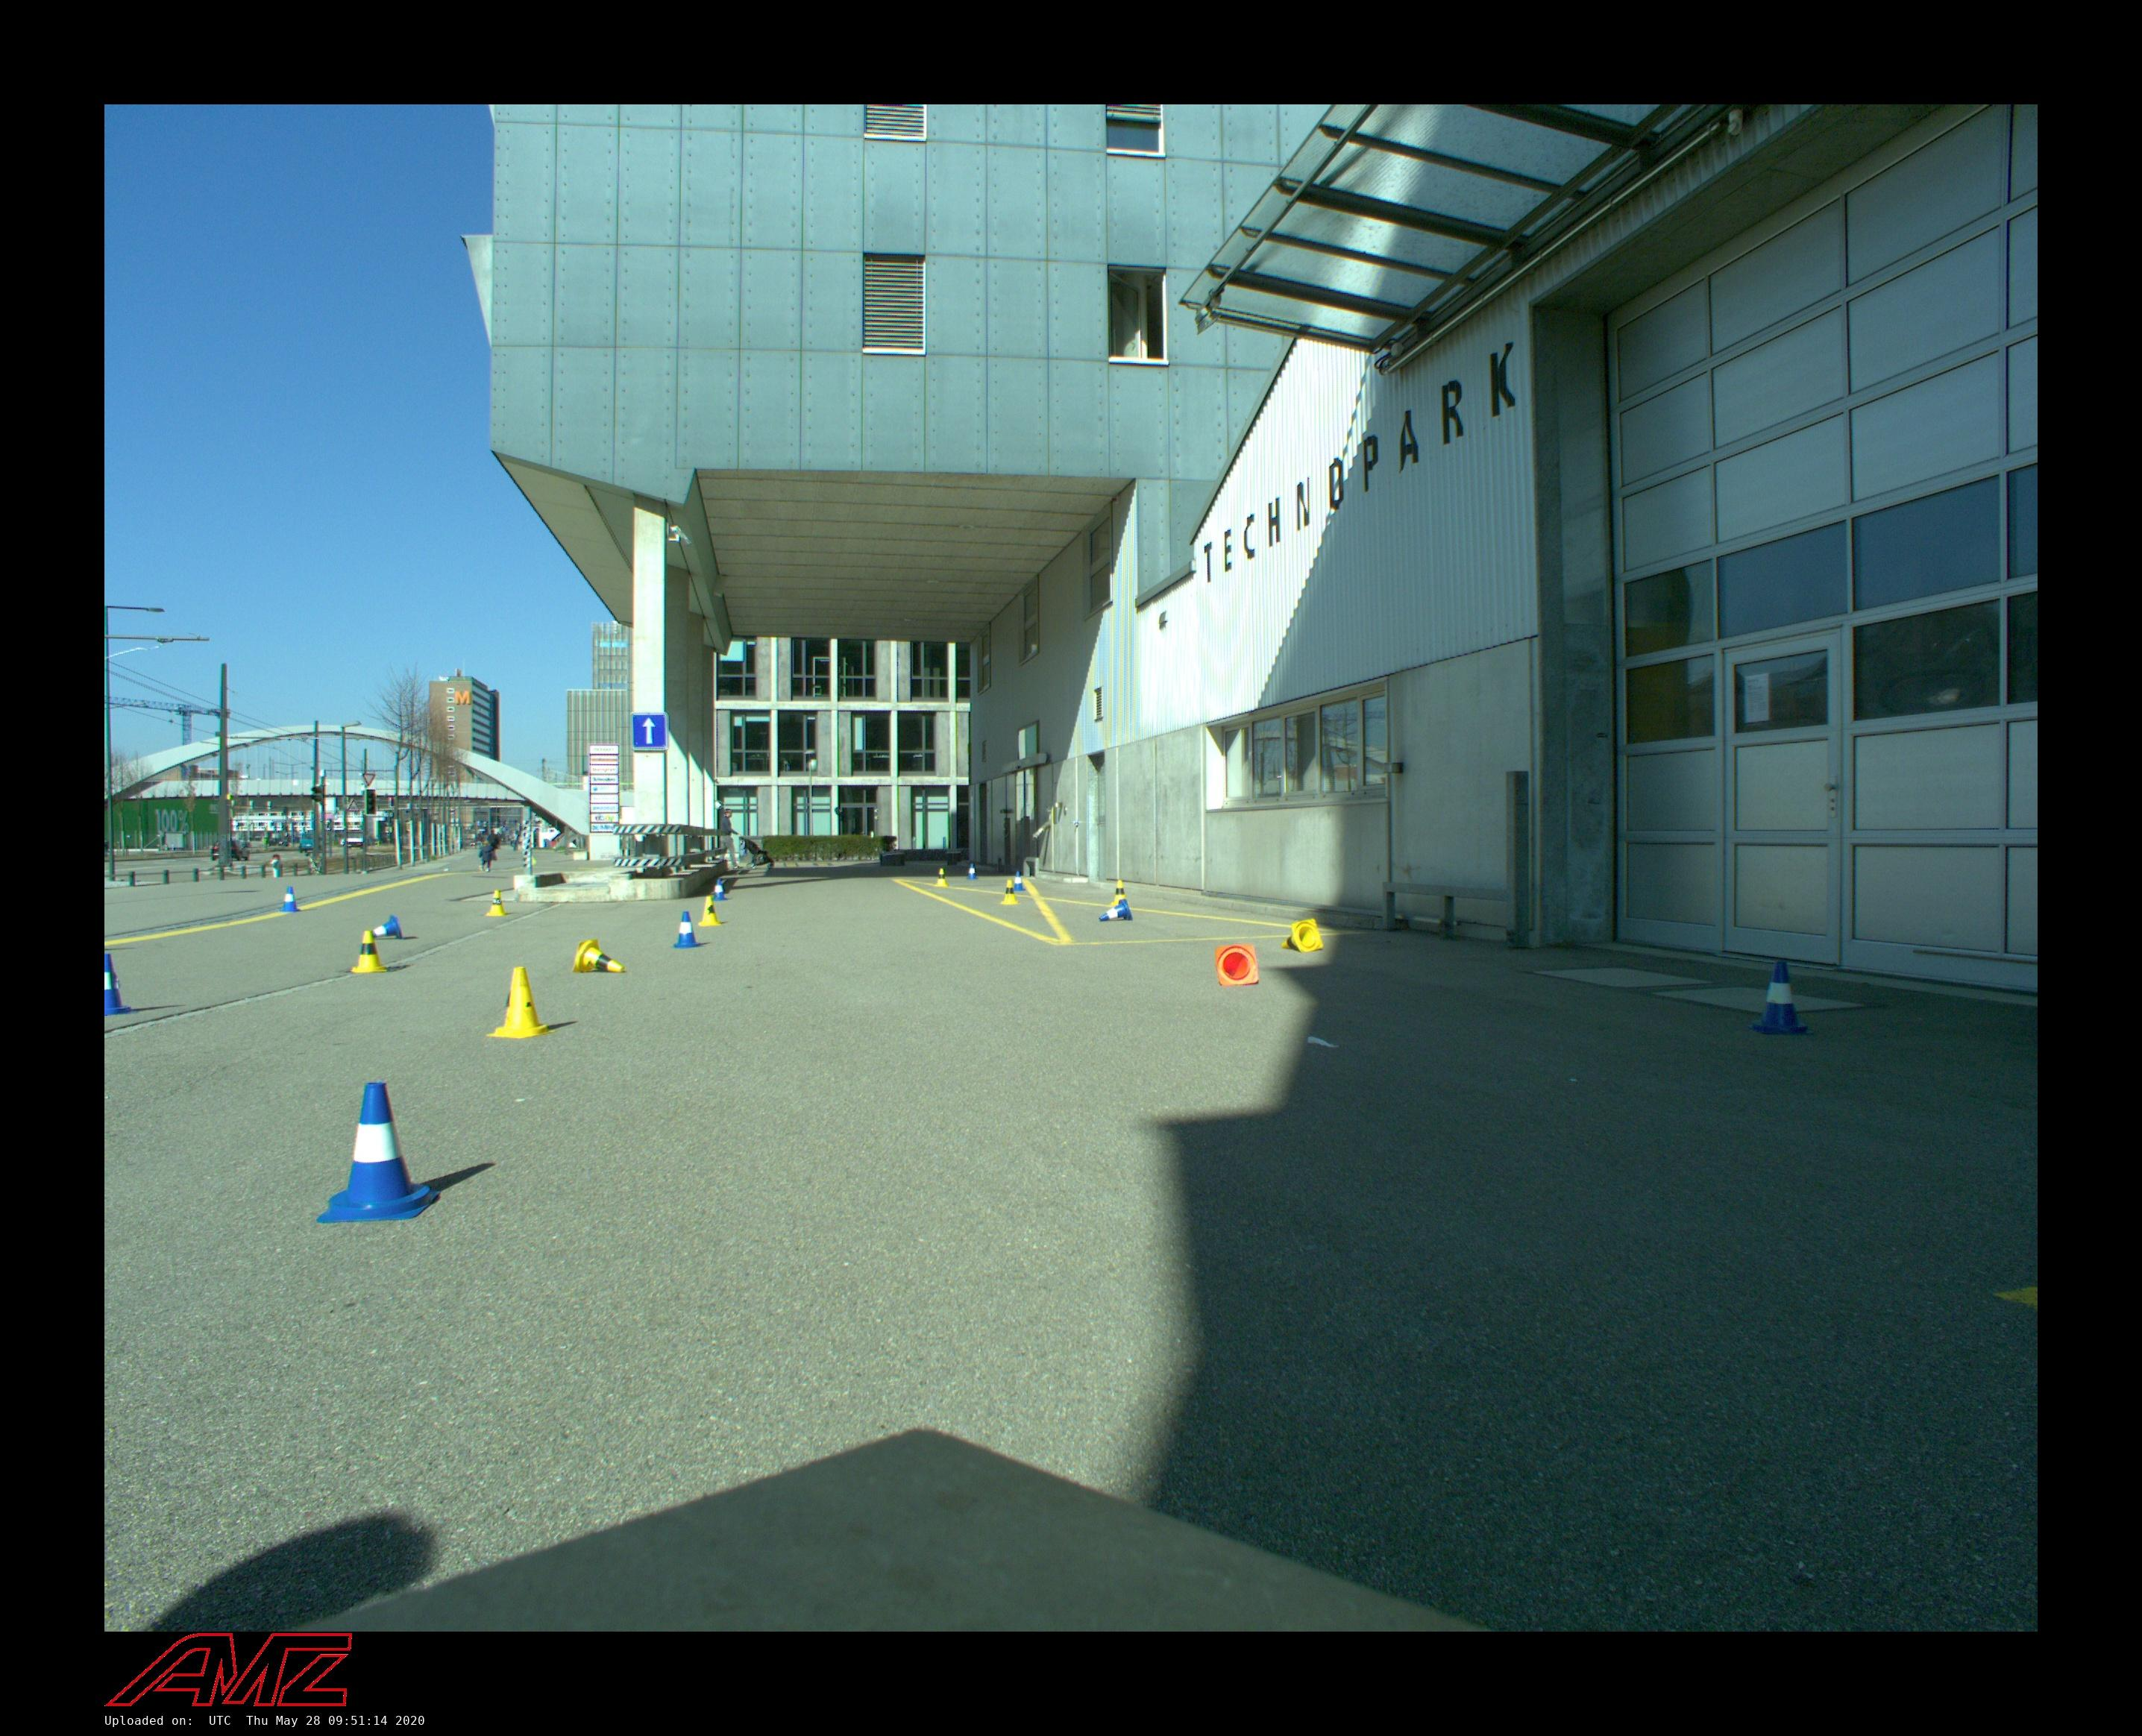blue_cone: (315, 1081, 441, 1222), (1745, 960, 1812, 1035), (105, 953, 136, 1015), (673, 911, 702, 948), (365, 916, 402, 941), (1098, 900, 1132, 921), (280, 886, 301, 912), (710, 879, 728, 902), (1012, 872, 1026, 891), (967, 863, 978, 880)
orange_cone: (1215, 944, 1260, 987)
yellow_cone: (487, 967, 556, 1040), (572, 939, 625, 973), (353, 930, 388, 973), (1281, 919, 1323, 953), (698, 896, 721, 928), (485, 889, 508, 916), (1111, 880, 1130, 905), (1001, 879, 1019, 905), (935, 868, 948, 887)
